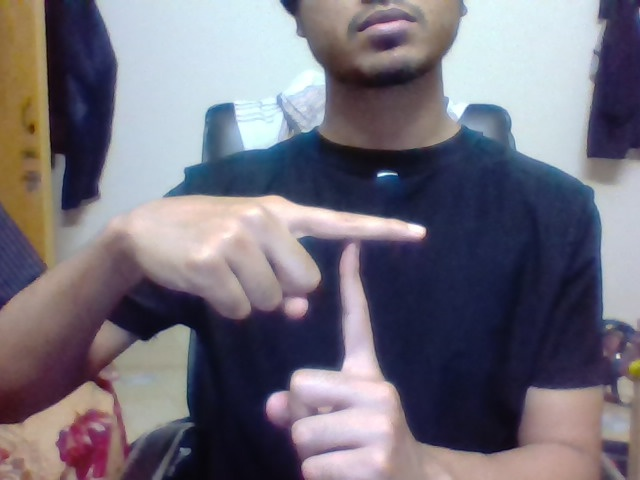T: (320, 186, 449, 357)
